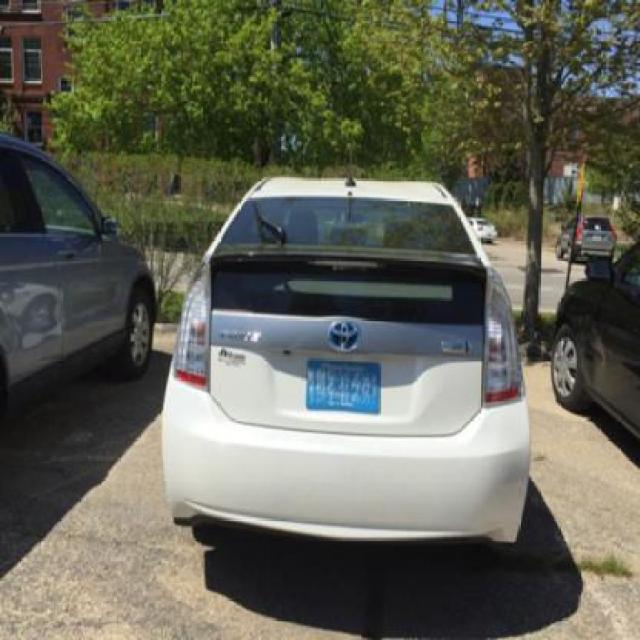License-Plates: (304, 359, 382, 416)
